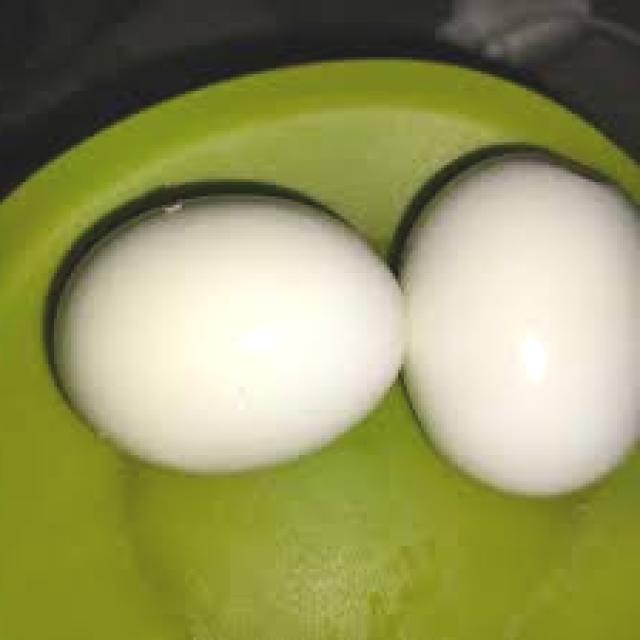telur rebus: (48, 193, 410, 475), (395, 151, 640, 501)
